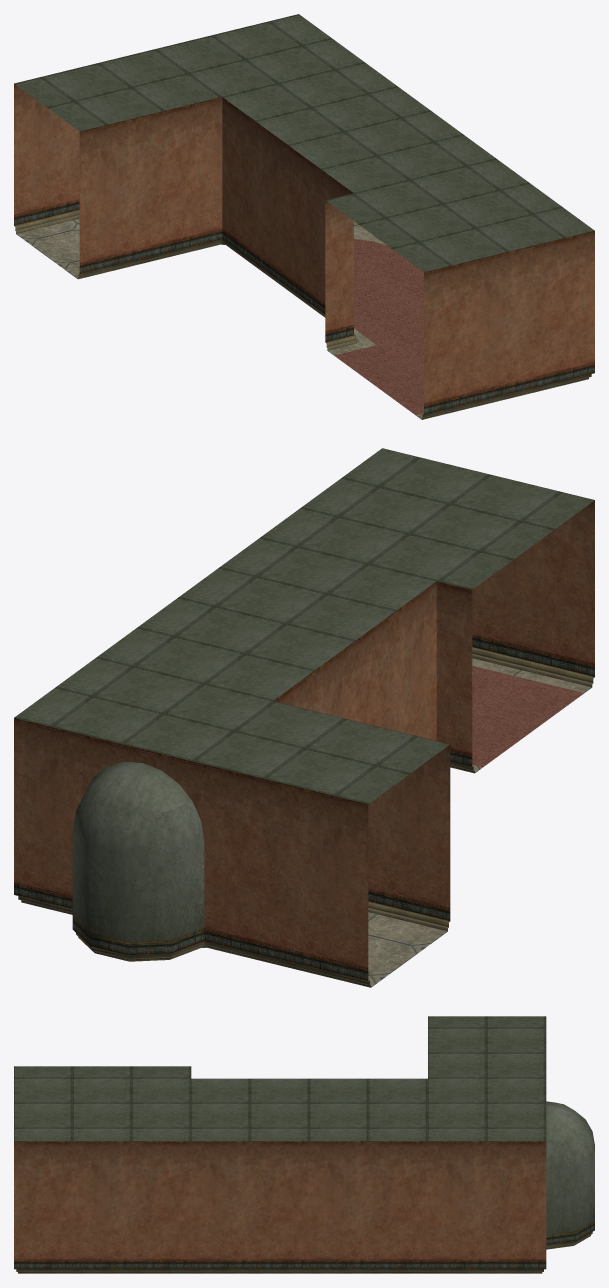
File: mun_corl_guild_theater_s01_r3_hallway2_mesh_r3.fbx
3 views of the same model, one above another, from view 1: azimuth 30°, elevation 25°; view 2: azimuth 150°, elevation 25°; view 3: azimuth 270°, elevation 25° (orthographic). The views are drawn at different scales.
Visible parts, largest first — view 1: mesh_node; view 2: mesh_node; view 3: mesh_node.
Boxes of the visible parts, left/top/right/bottom form: mesh_node: left=14, top=14, right=594, bottom=419; mesh_node: left=14, top=448, right=594, bottom=987; mesh_node: left=14, top=1016, right=594, bottom=1273.
Size of the model in its own units: 10 by 5 by 19.65.
